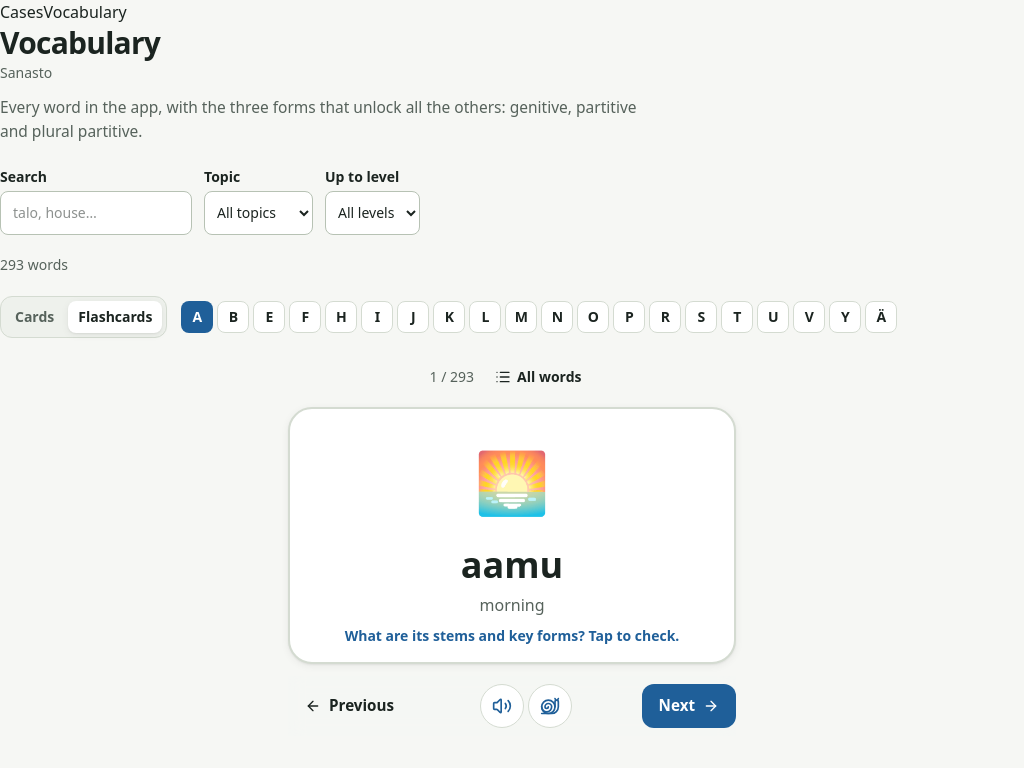
Scenario: Vocabulary flashcards: edges › "All words": a search with no match says so, and closing the list clears its search
The width and height of the screenshot is (1024, 768).
Click the button "All words": coordinates (538, 377) [482,359,594,395]
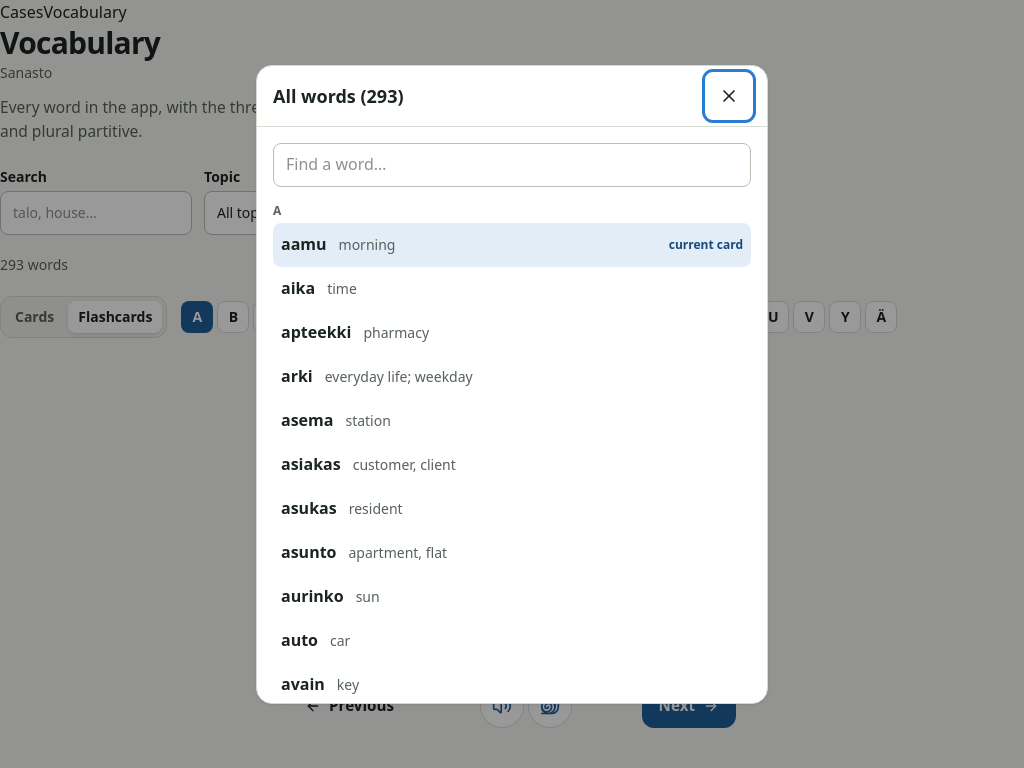
In the search field labelled "Find a word": coordinates (512, 164) [273,142,751,186], type "zzzz"
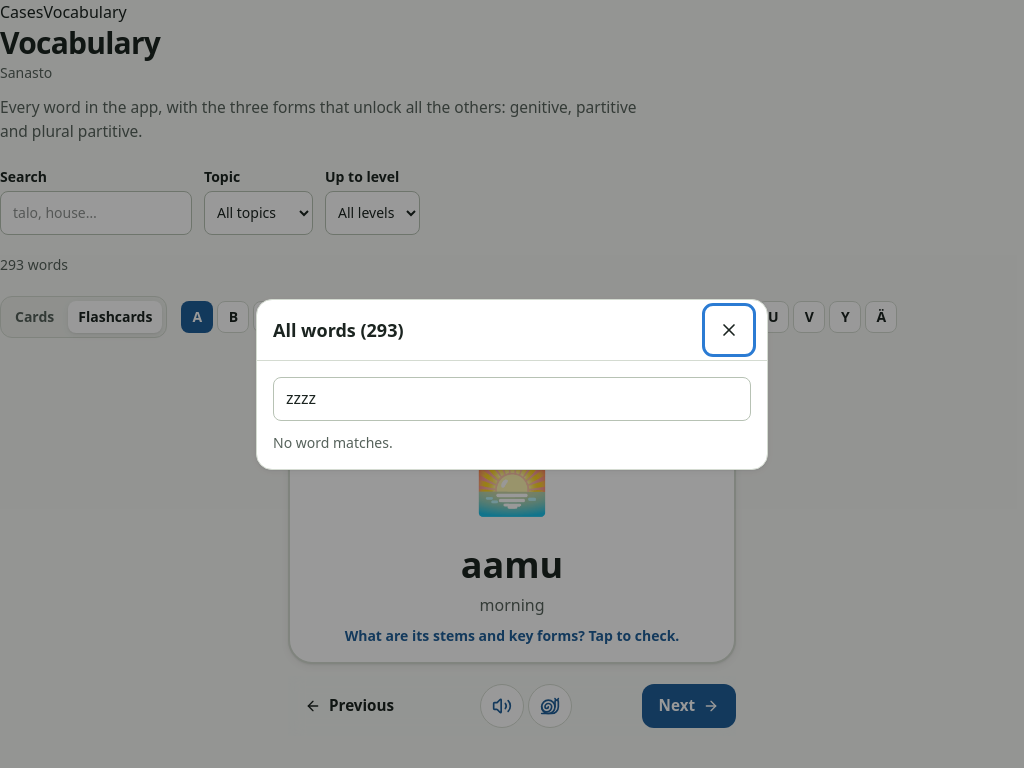
Expected: the text "No word matches." is shown, [273,432,393,452]
Click the button named "Close": coordinates (729, 330) [707,308,751,352]
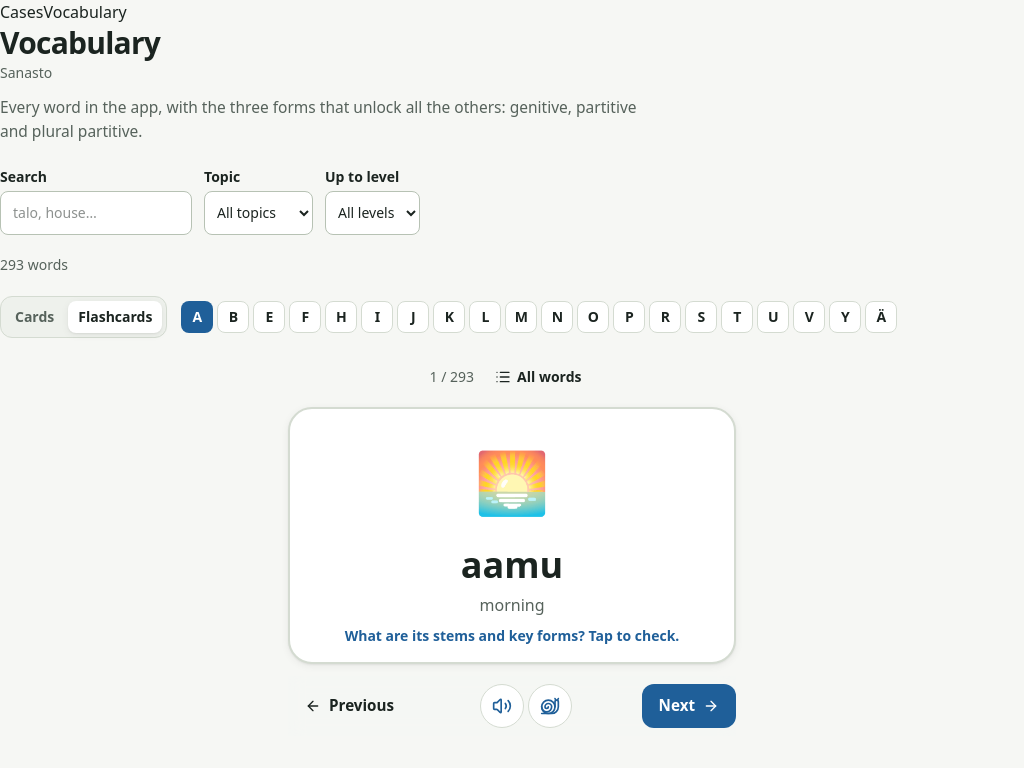
Expected: the dialog is gone
Click the button "All words": coordinates (538, 377) [482,359,594,395]
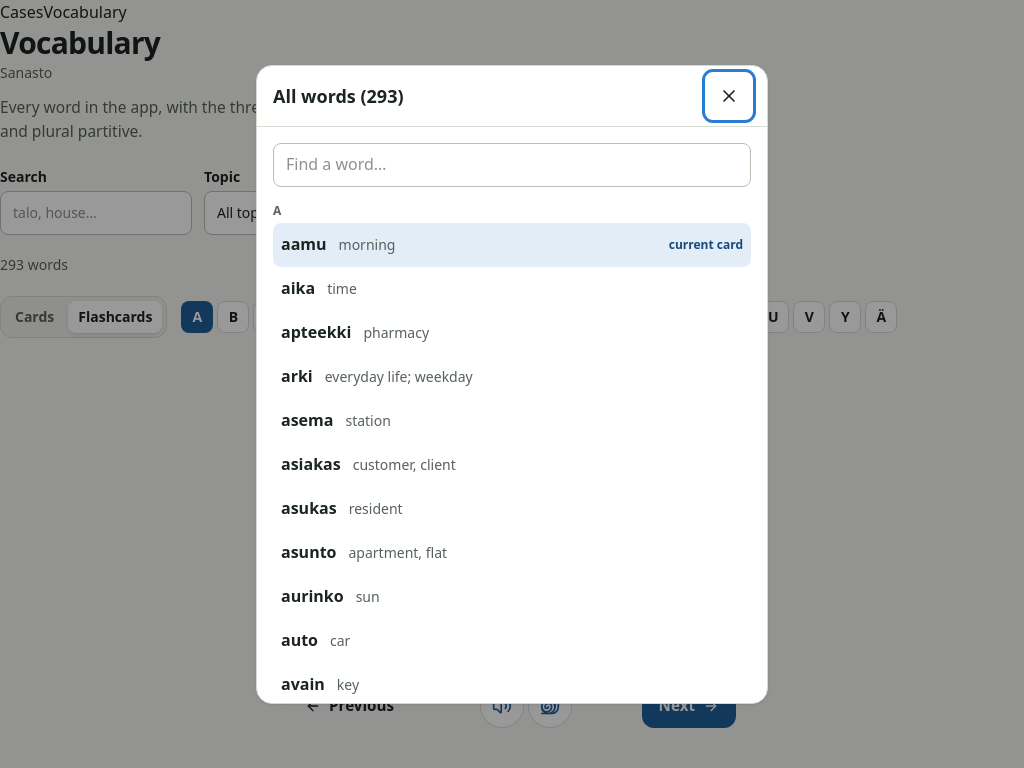
Expected: the search field labelled "Find a word" is empty, [273,142,751,186]
Expected: the button "aamu morning current card" is shown, [273,222,751,266]
